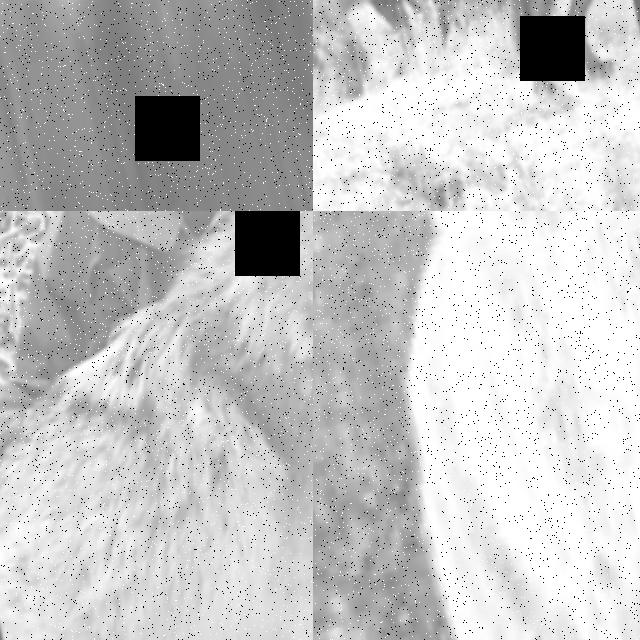dog: (0, 0, 313, 211)
wolf: (313, 211, 640, 640), (0, 211, 313, 640), (467, 0, 640, 129), (313, 0, 417, 211)
